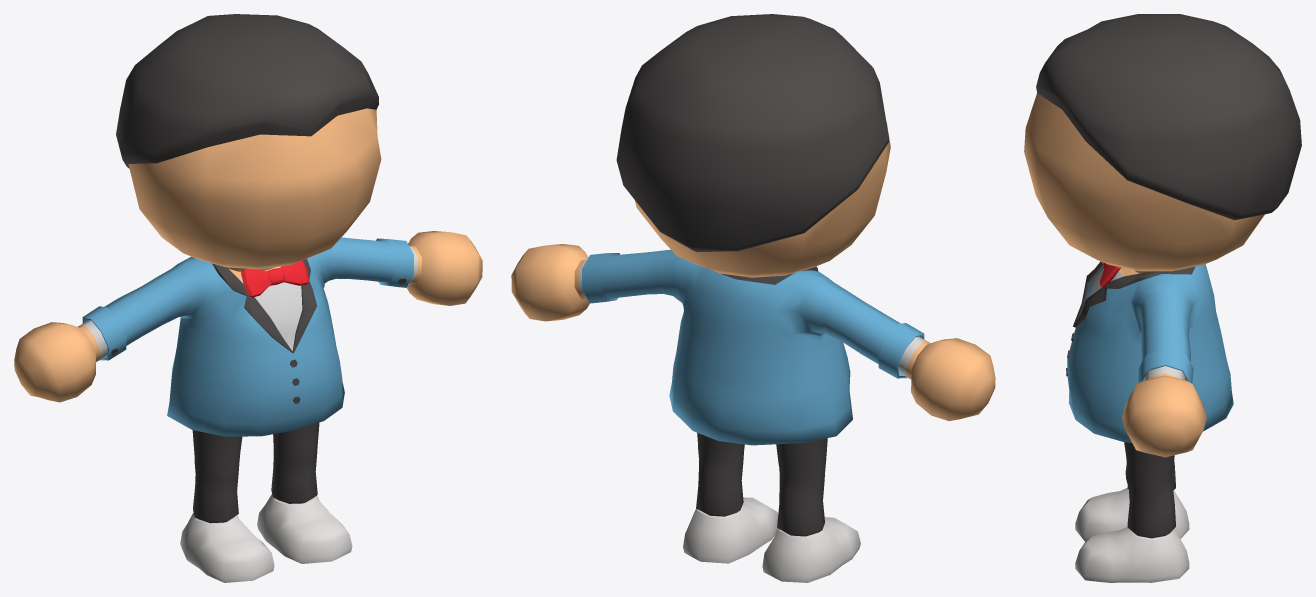
3 renders of one model, left to right at view 1: azimuth 30°, elevation 25°; view 2: azimuth 150°, elevation 25°; view 3: azimuth 270°, elevation 25°, orthographic. The views are drawn at different scales.
Parts seen in each view (by area): view 1: polySurface1, Suit, Tie; view 2: polySurface1, Suit; view 3: polySurface1, Suit.
Part boxes in pixels (x1,y1,x2,y2): polySurface1: (14, 14, 482, 582); Suit: (82, 237, 413, 436); Tie: (241, 260, 309, 297); polySurface1: (511, 14, 995, 582); Suit: (582, 249, 924, 445); polySurface1: (1024, 14, 1301, 582); Suit: (1066, 262, 1233, 442).
Bounding box in the file's own units: 7.35 × 7.77 × 3.81.
